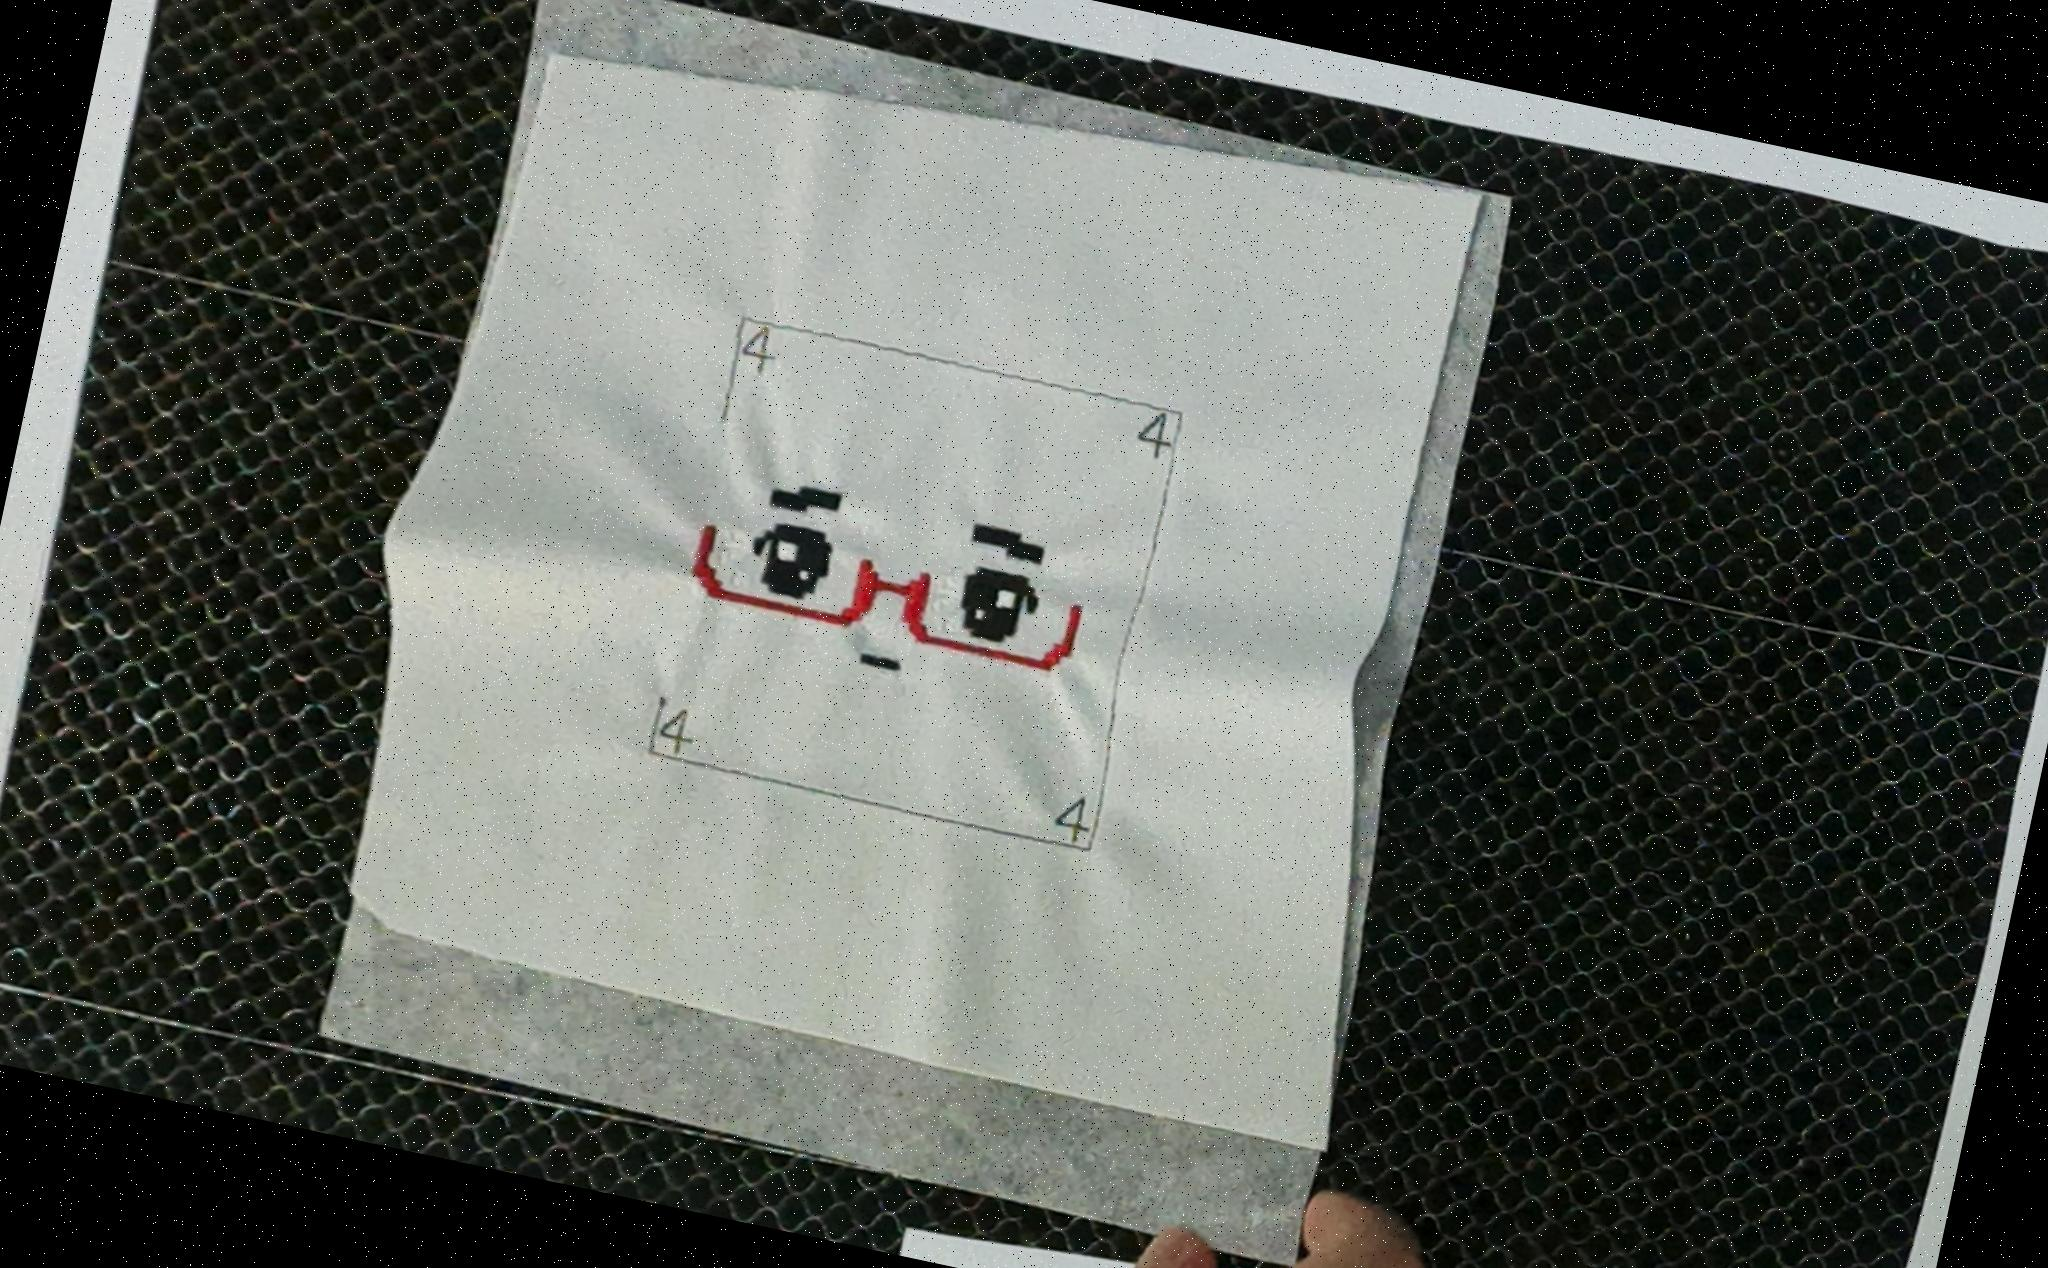objects: (276, 0, 1577, 1268)
